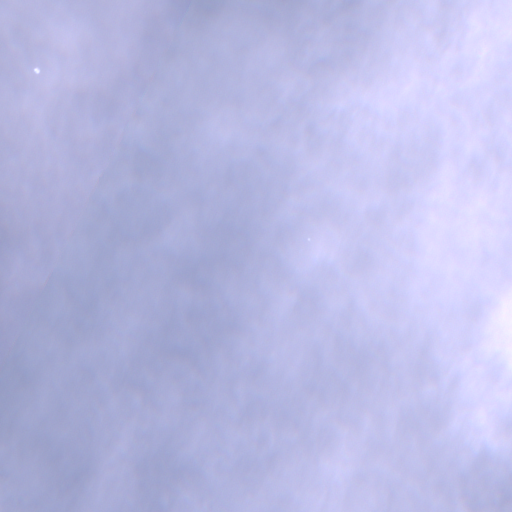Iceberg: (34, 69, 38, 72)
